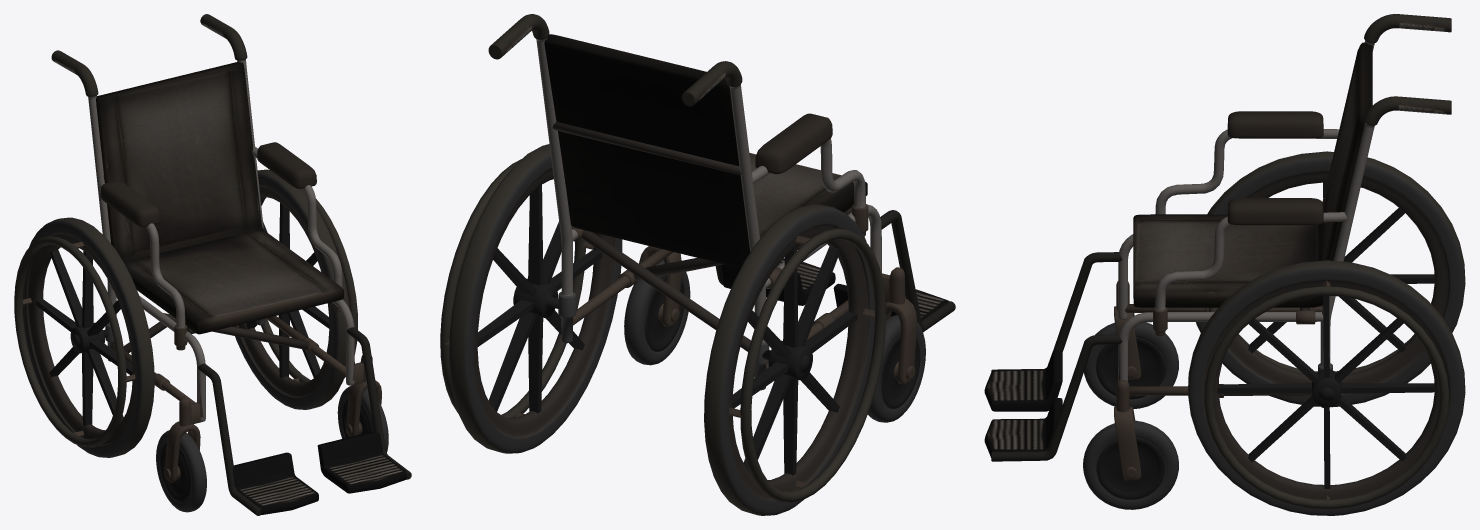
The model's file is prop_wheelchair.fbx.
The picture shows the model from 3 angles, left to right: view 1: azimuth 30°, elevation 25°; view 2: azimuth 150°, elevation 25°; view 3: azimuth 270°, elevation 25°; orthographic projection. The views are drawn at different scales.
Parts seen in each view (by area): view 1: wheelchair; view 2: wheelchair; view 3: wheelchair.
Part boxes in pixels (<box>): wheelchair: <box>14,14,411,515</box>; wheelchair: <box>440,14,955,515</box>; wheelchair: <box>984,14,1465,515</box>.
Size of the model in its own units: 52.64 by 74.93 by 80.94.
